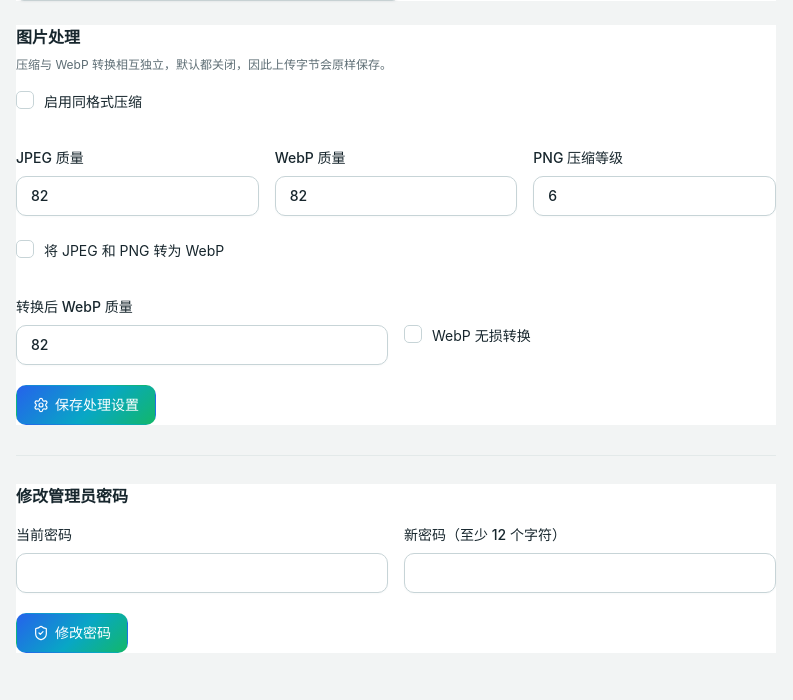
SettingsPage › shows account settings without duplicating the system overview
(page scrolled)
Check: the checkbox labelled "启用同格式压缩" is not checked, box [16,91,34,109]
Check: the checkbox labelled "将 JPEG 和 PNG 转为 WebP" is not checked, box [16,240,34,258]
Click the button "修改密码" at coordinates (72, 633), box [16,613,128,653]
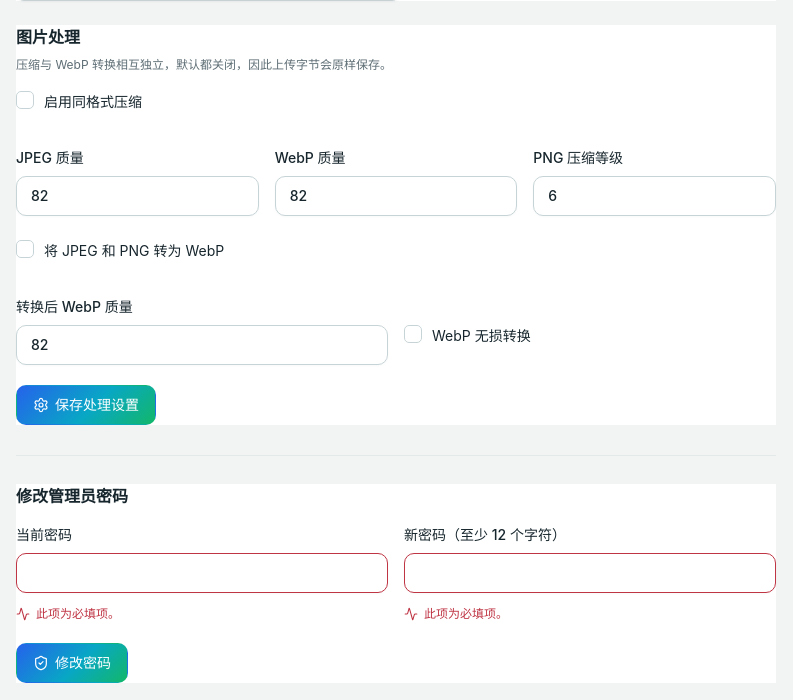
Check: the number of messages is 2, box [16,606,120,621]; [404,606,508,621]
Check: the text "此项为必填项。" is shown 2 times, box [16,606,120,621]; [404,606,508,621]
